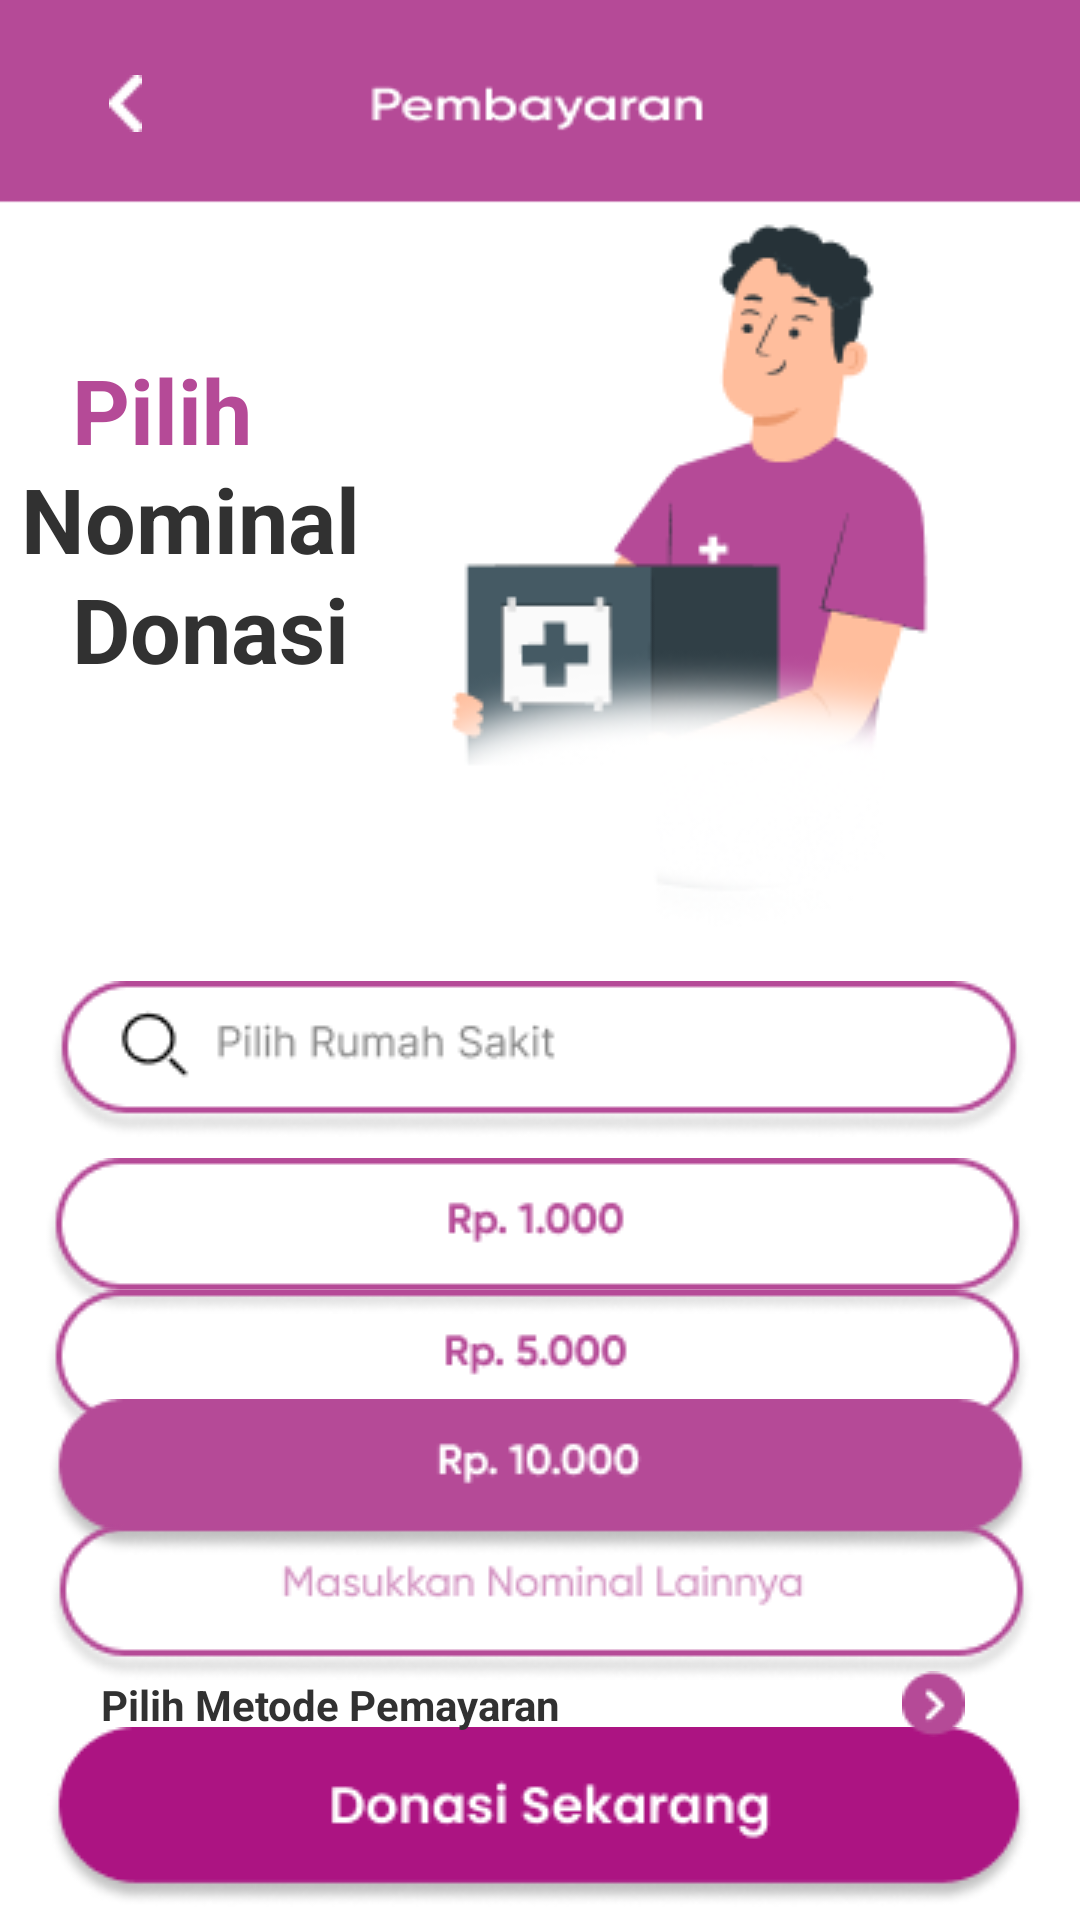

Point at icon controls on the screen. Image size 1080 × 1920, points as point (x, y).
back: point (125, 103)
